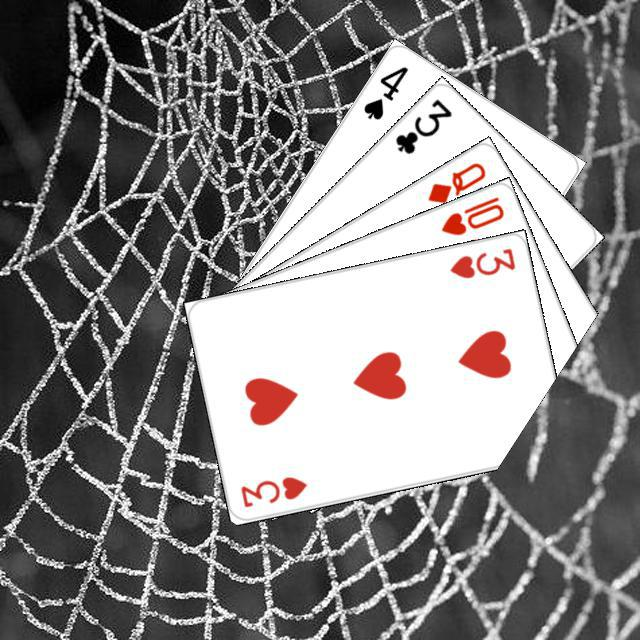10h: (436, 191, 506, 238)
3c: (390, 93, 454, 156)
3h: (235, 471, 309, 510), (445, 243, 517, 280)
4s: (358, 61, 410, 122)
Qd: (422, 157, 488, 206)
